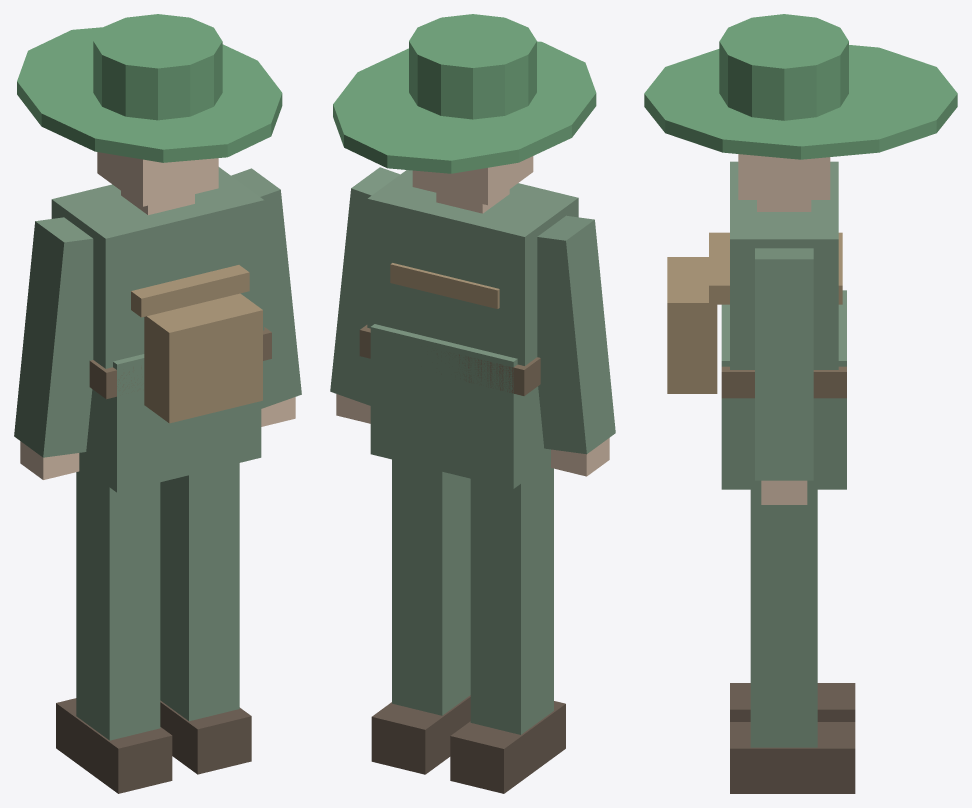
Rendered from warden.glb.
3 renders of one model, left to right at view 1: azimuth 30°, elevation 25°; view 2: azimuth 150°, elevation 25°; view 3: azimuth 270°, elevation 25°, orthographic.
Parts seen in each view (by area): view 1: warden; view 2: warden; view 3: warden.
Part boxes in pixels (x1,y1,x2,y2): warden: (14,14,301,793); warden: (330,14,615,793); warden: (644,14,957,793).
Bounding box in the file's own units: 0.6801 × 1.8 × 0.7105.
